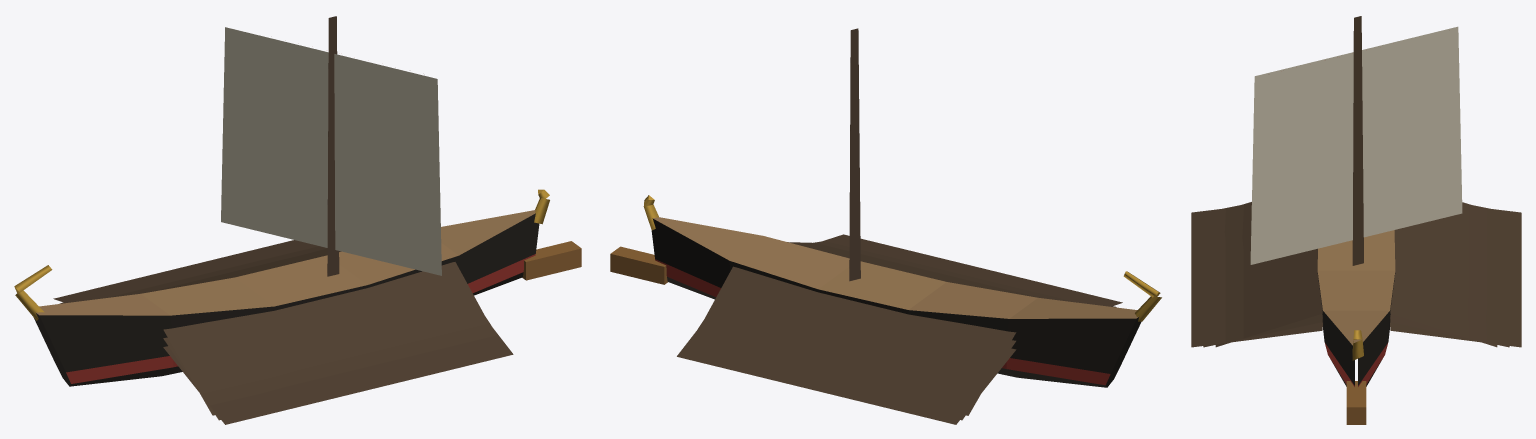
Rendered from hull_gold_trireme_large_lod.glb.
3 renders of one model, left to right at view 1: azimuth 30°, elevation 25°; view 2: azimuth 150°, elevation 25°; view 3: azimuth 270°, elevation 25°, orthographic. The views are drawn at different scales.
Parts seen in each view (by area): view 1: lod; view 2: lod; view 3: lod.
Boxes of the visible parts, x1,y1,x2,y2 form: lod: (14,16,581,424); lod: (610,28,1161,424); lod: (1191,16,1521,424).
Size of the model in its own units: 20.01 by 10.95 by 10.61.
